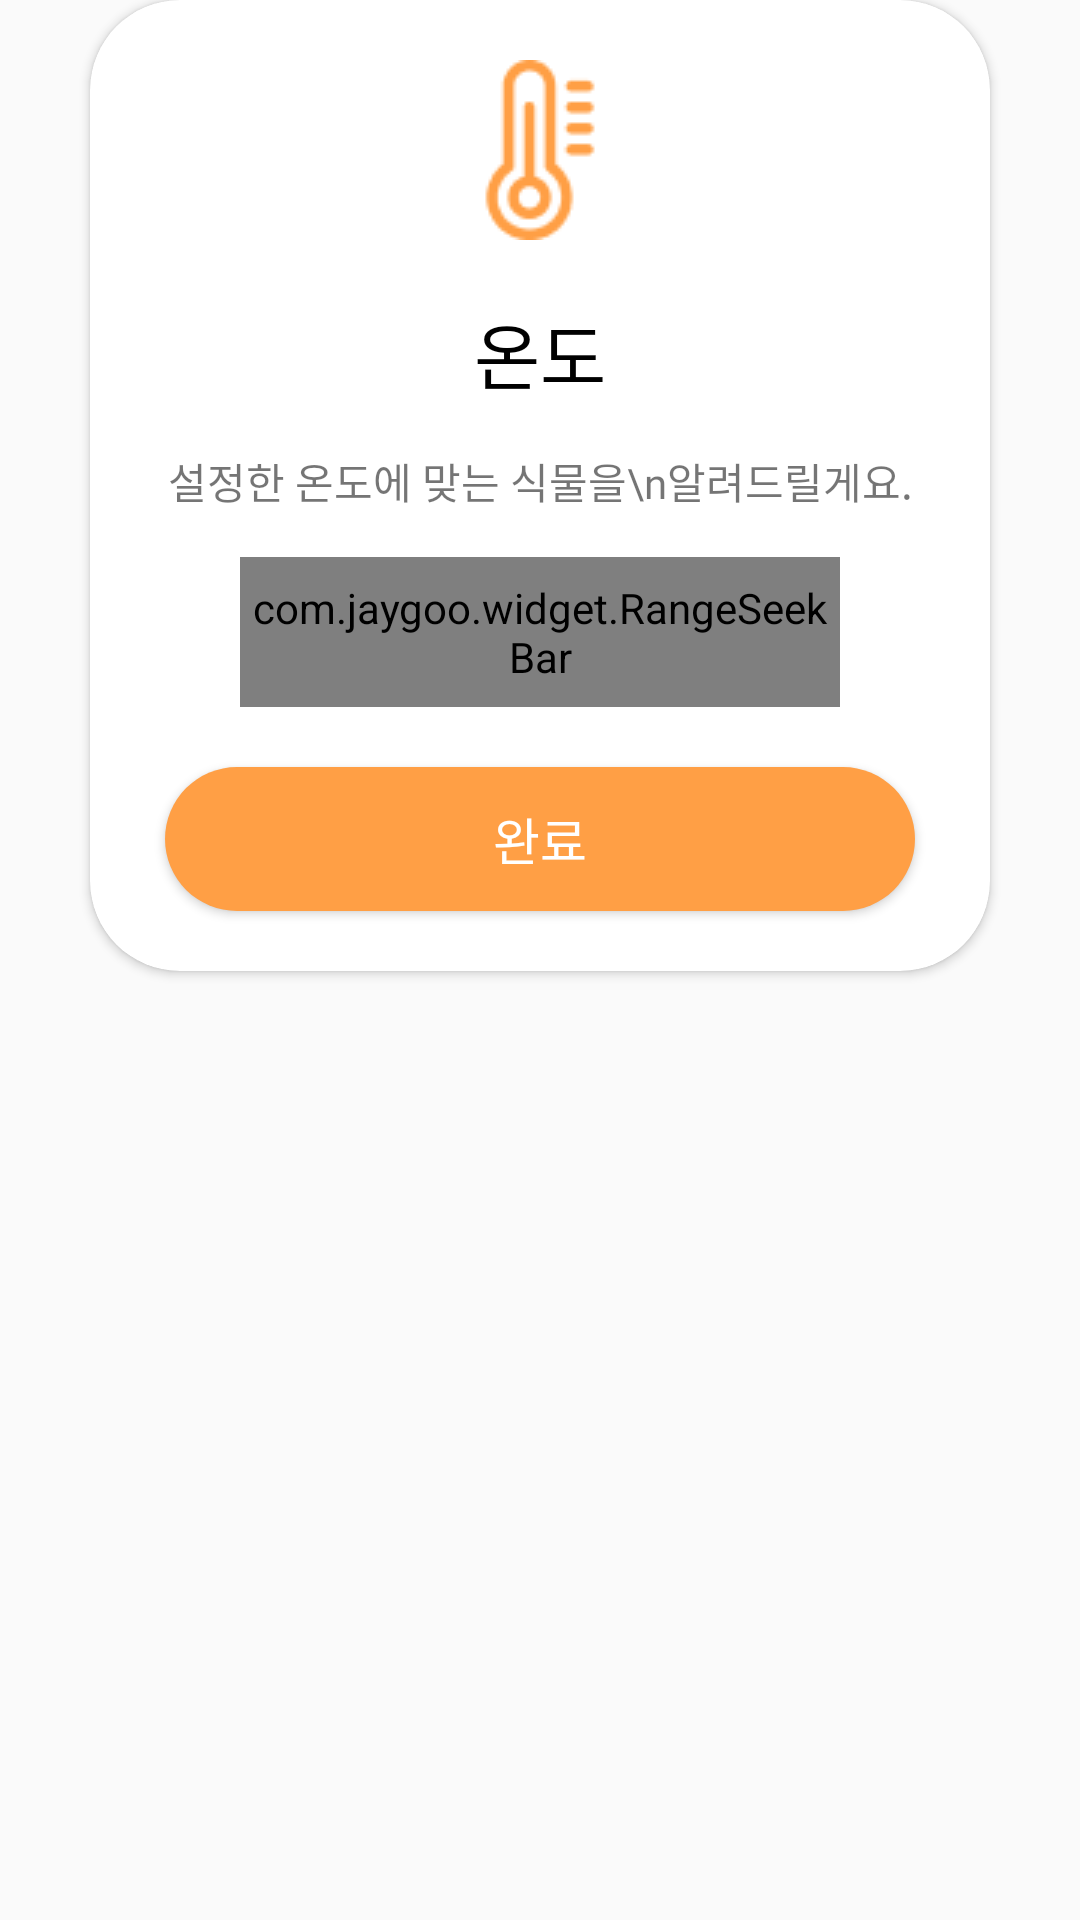

Screen size 1080x1920. Icon name, then its center in pixels as (x,y):
thermometer: (540,150)
